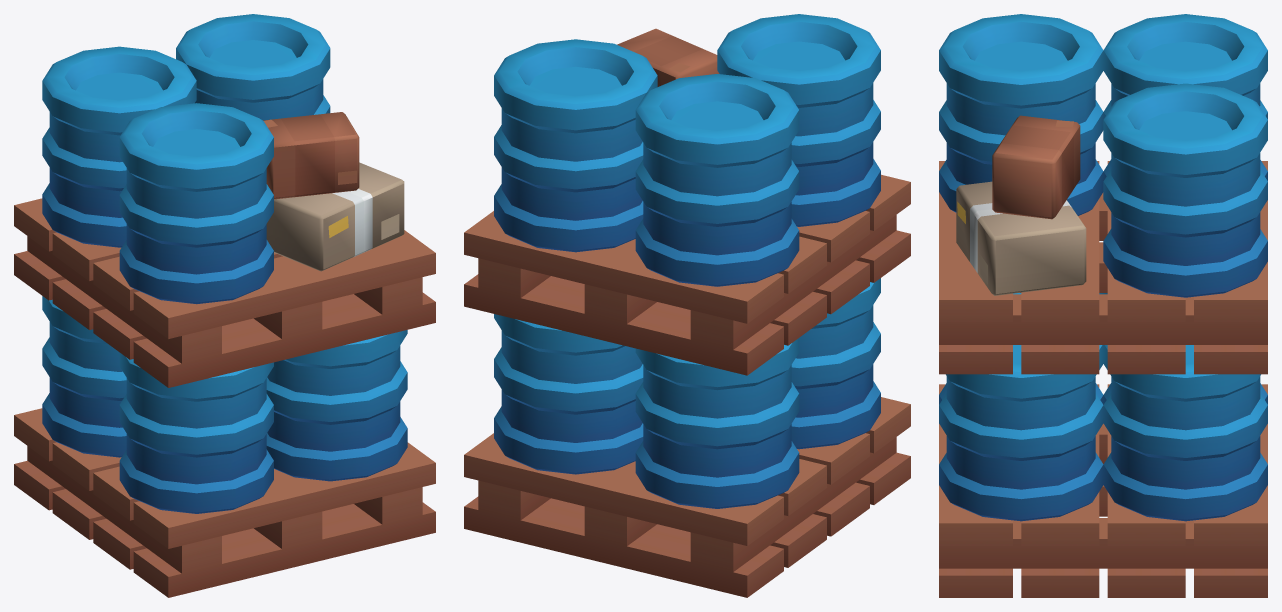
The model's file is pallet-small-decorated-b.glb.
3 renders of one model, left to right at view 1: azimuth 30°, elevation 25°; view 2: azimuth 150°, elevation 25°; view 3: azimuth 270°, elevation 25°, orthographic. The views are drawn at different scales.
Parts seen in each view (by area): view 1: Pallet_Small_Decorated_B; view 2: Pallet_Small_Decorated_B; view 3: Pallet_Small_Decorated_B.
Part boxes in pixels (bbox=[...]): Pallet_Small_Decorated_B: bbox=[14, 14, 435, 597]; Pallet_Small_Decorated_B: bbox=[464, 14, 910, 597]; Pallet_Small_Decorated_B: bbox=[939, 14, 1267, 597].
Size of the model in its own units: 2 by 3 by 2.
1 material, 1 textured.
